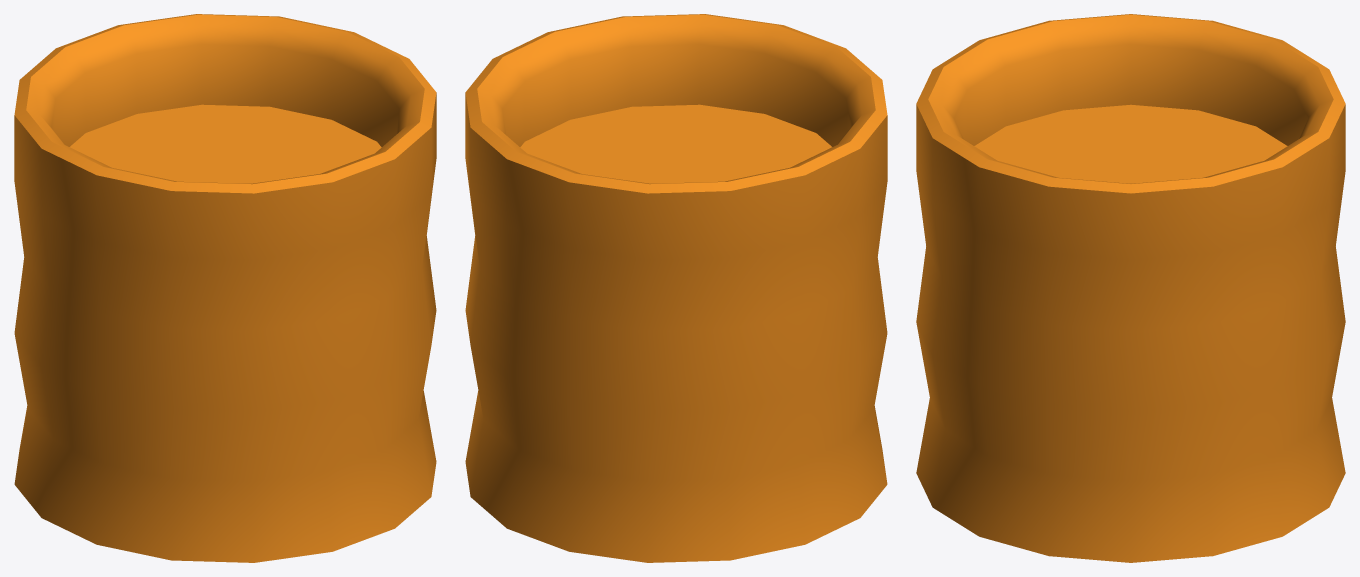
File: CoralCupB.FBX
3 renders of one model, left to right at view 1: azimuth 30°, elevation 25°; view 2: azimuth 150°, elevation 25°; view 3: azimuth 270°, elevation 25°, orthographic.
Parts seen in each view (by area): view 1: CoralB; view 2: CoralB; view 3: CoralB.
Boxes of the visible parts, box(x1,y1,x2,y2) form: CoralB: box(14, 14, 436, 562); CoralB: box(465, 14, 887, 562); CoralB: box(916, 14, 1345, 562).
Size of the model in its own units: 50.14 by 48.68 by 50.68.
1 material, 1 textured.
